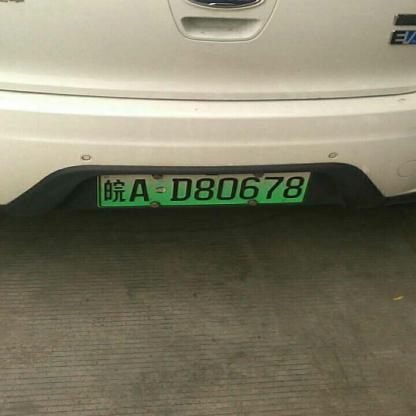lp: (97, 172, 311, 206)
